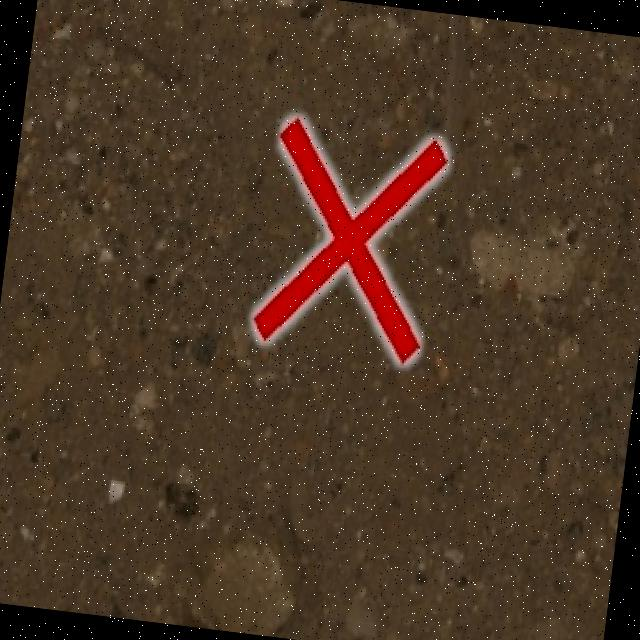x_marker: (250, 114, 448, 363)
